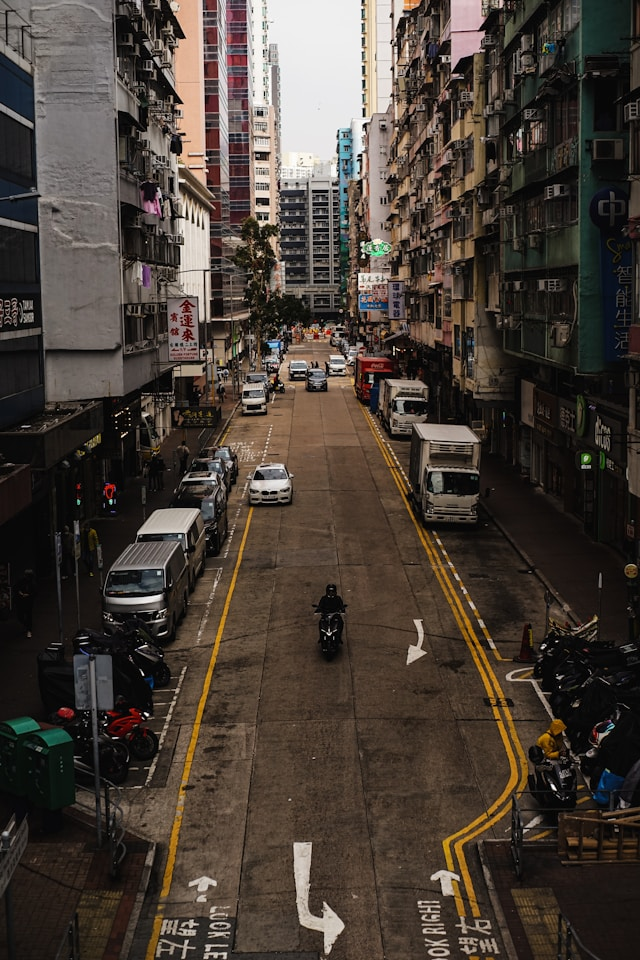car: (101, 536, 205, 632), (123, 492, 215, 577), (173, 463, 235, 525), (246, 455, 296, 508), (196, 442, 235, 481), (232, 378, 271, 417), (301, 365, 333, 400), (284, 356, 312, 386), (326, 347, 349, 379), (272, 372, 287, 396)
motorcycle: (33, 622, 190, 704), (27, 695, 169, 769), (524, 629, 630, 669), (528, 728, 576, 813), (545, 653, 622, 702), (298, 573, 355, 639), (581, 718, 640, 771)
truck: (401, 408, 490, 543), (375, 376, 429, 438), (356, 356, 385, 407)
